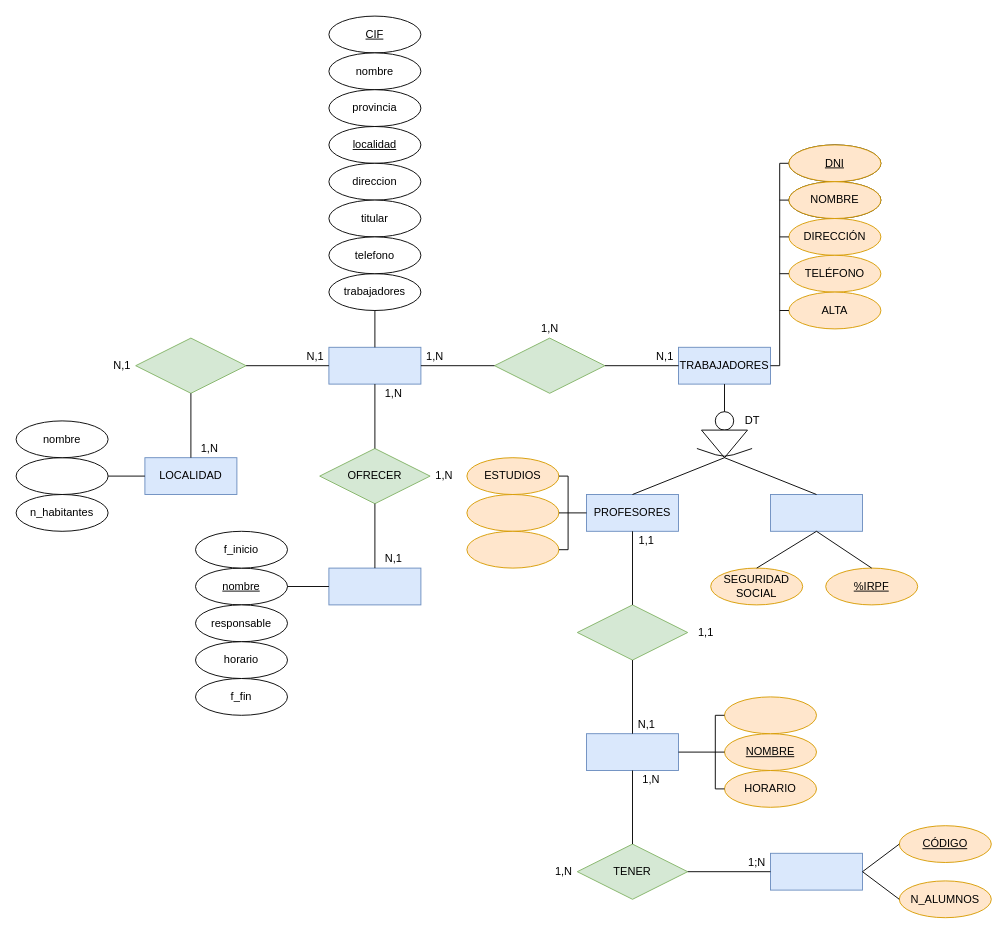
Some shapes in this 1007 by 934 pixel diagram are drawn without their labels. Here are the shapes that lost their labels. From the top down, the box of each, then its label:
(135, 337, 246, 393): PERTENECE
(328, 346, 421, 384): CENTRO
(494, 337, 605, 393): TRABAJAR
(15, 457, 108, 494): codigo
(466, 494, 559, 531): MATERIA
(770, 494, 862, 531): PAS
(466, 530, 559, 568): H_SECCIÓN
(328, 567, 421, 605): ACTIVIDADES
(576, 604, 688, 660): IMPARTIR
(724, 696, 816, 734): CURSO
(586, 733, 678, 770): SECCION
(770, 852, 862, 890): CURSOS
